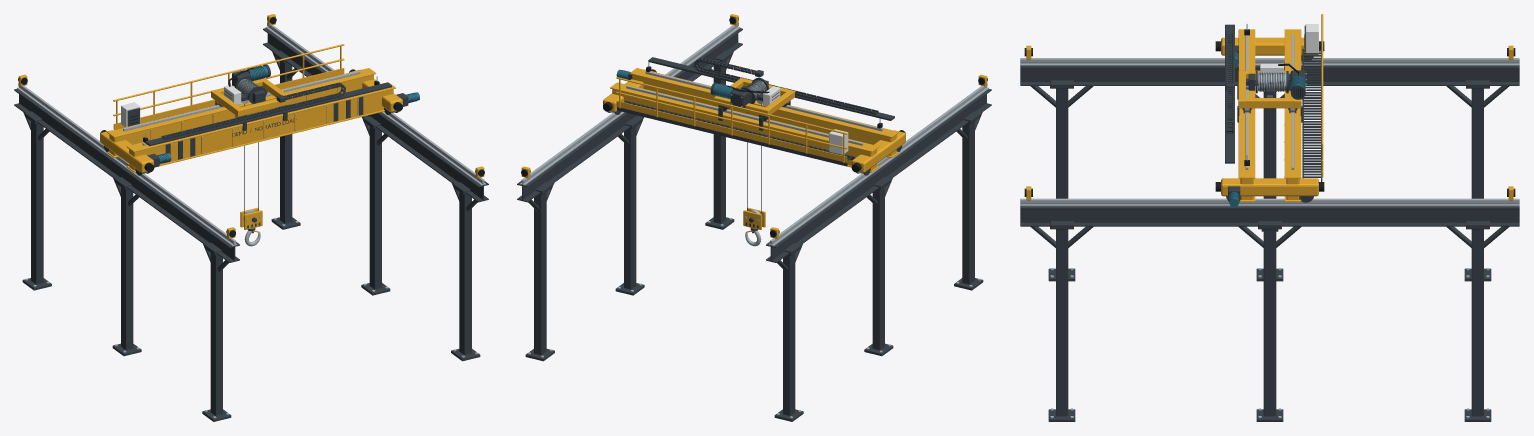
Rendered from original-bridge-crane-v2.glb.
3 renders of one model, left to right at view 1: azimuth 30°, elevation 25°; view 2: azimuth 150°, elevation 25°; view 3: azimuth 270°, elevation 25°, orthographic. The views are drawn at different scales.
Visible parts, largest first — view 1: Runway_Fixed__Graphite, BridgeTravel__SafetyYellow, Runway_Fixed__MachinedSteel, BridgeTravel__Graphite, TrolleyTravel__SafetyYellow, BridgeTravel__MachinedSteel, TrolleyTravel__Graphite; view 2: Runway_Fixed__Graphite, BridgeTravel__SafetyYellow, Runway_Fixed__MachinedSteel, BridgeTravel__Graphite, BridgeTravel__MachinedSteel, TrolleyTravel__SafetyYellow, TrolleyTravel__Graphite; view 3: Runway_Fixed__Graphite, Runway_Fixed__MachinedSteel, BridgeTravel__SafetyYellow, BridgeTravel__Graphite, TrolleyTravel__SafetyYellow, Rail_web.001, Rail_web, TrolleyTravel__Graphite, BridgeTravel__MachinedSteel, Hoist_drum.
Part boxes in pixels (<box>): Runway_Fixed__Graphite: <box>14,28,488,421</box>; BridgeTravel__SafetyYellow: <box>100,44,402,172</box>; Runway_Fixed__MachinedSteel: <box>17,23,485,418</box>; BridgeTravel__Graphite: <box>103,74,408,175</box>; TrolleyTravel__SafetyYellow: <box>211,78,291,116</box>; BridgeTravel__MachinedSteel: <box>123,71,396,173</box>; TrolleyTravel__Graphite: <box>215,64,287,130</box>; Runway_Fixed__Graphite: <box>517,28,991,421</box>; BridgeTravel__SafetyYellow: <box>603,68,905,172</box>; Runway_Fixed__MachinedSteel: <box>520,23,988,418</box>; BridgeTravel__Graphite: <box>607,57,902,175</box>; BridgeTravel__MachinedSteel: <box>609,62,882,173</box>; TrolleyTravel__SafetyYellow: <box>714,78,794,116</box>; TrolleyTravel__Graphite: <box>710,70,790,130</box>; Runway_Fixed__Graphite: <box>1020,65,1519,421</box>; Runway_Fixed__MachinedSteel: <box>1020,58,1519,418</box>; BridgeTravel__SafetyYellow: <box>1221,14,1323,201</box>; BridgeTravel__Graphite: <box>1225,24,1322,202</box>; TrolleyTravel__SafetyYellow: <box>1238,70,1301,108</box>; Rail_web.001: <box>1020,203,1519,204</box>; Rail_web: <box>1020,62,1519,63</box>; TrolleyTravel__Graphite: <box>1226,70,1305,122</box>; BridgeTravel__MachinedSteel: <box>1245,24,1294,177</box>; Hoist_drum: <box>1258,73,1286,91</box>.
Size of the model in its own units: 9.15 by 7.38 by 12.
